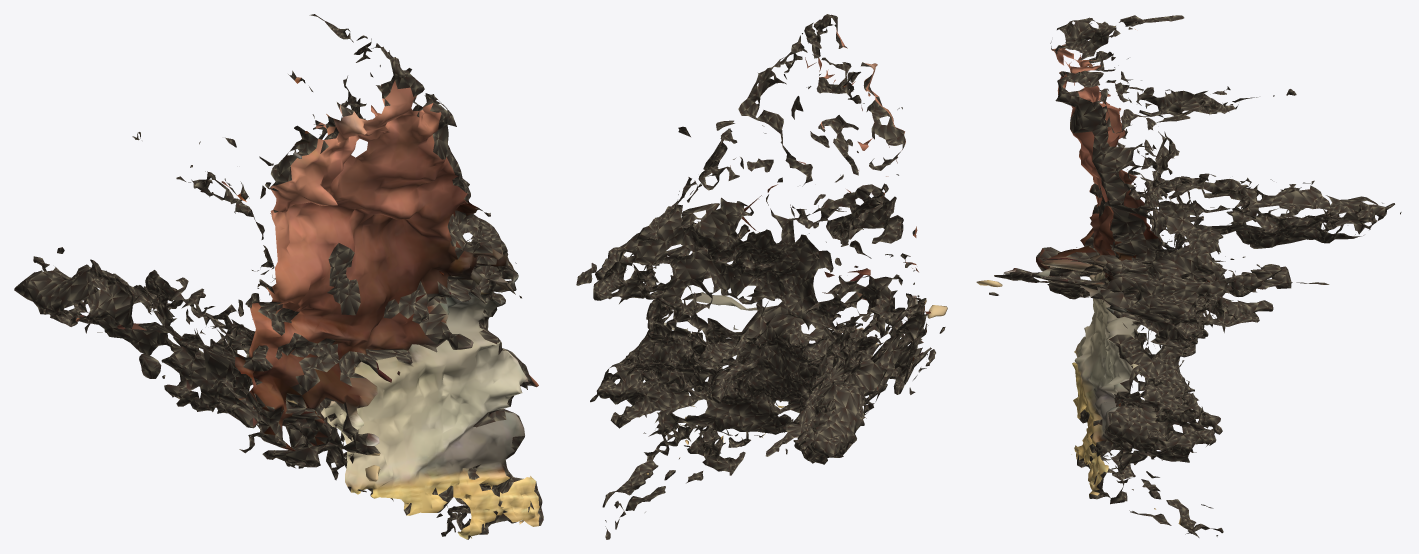
Rendered from textured_mesh_lowpoly_glb.glb.
3 views of the same model, side by side, from view 1: azimuth 30°, elevation 25°; view 2: azimuth 150°, elevation 25°; view 3: azimuth 270°, elevation 25° (orthographic). The views are drawn at different scales.
Bounding box in the file's own units: 2.46 × 3.56 × 2.99.
Materials: 1 (1 with a texture image).
